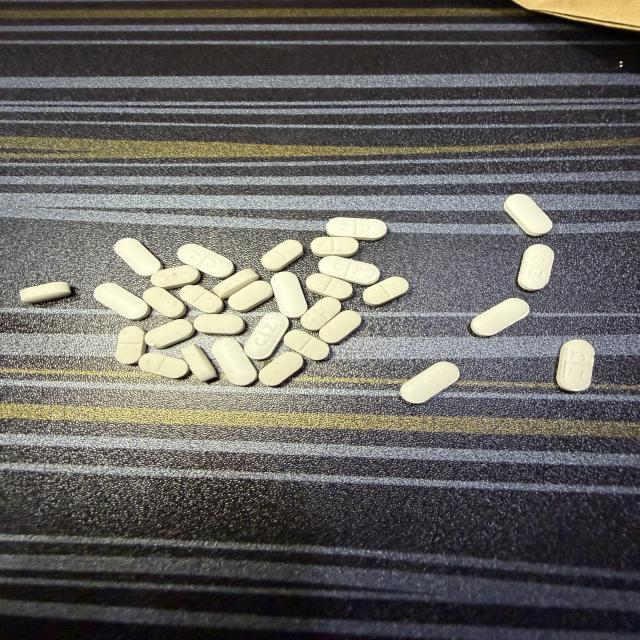pill: (400, 362, 459, 403), (471, 298, 529, 336), (211, 338, 257, 385), (94, 283, 150, 320), (245, 313, 289, 359), (504, 194, 552, 236), (178, 244, 234, 278), (557, 340, 594, 391), (114, 238, 162, 277), (319, 256, 379, 285), (271, 272, 307, 318), (518, 244, 554, 290), (259, 352, 303, 386), (319, 310, 361, 344), (145, 319, 194, 348), (228, 281, 273, 312), (213, 269, 259, 299), (143, 287, 186, 319), (284, 330, 329, 360), (326, 218, 387, 240), (181, 344, 217, 381), (301, 298, 341, 331), (363, 277, 408, 306), (261, 240, 303, 271), (139, 353, 189, 378), (179, 285, 223, 313), (151, 265, 201, 289), (306, 274, 352, 300), (116, 326, 146, 364), (20, 282, 71, 303), (194, 315, 245, 335), (311, 237, 358, 257)
